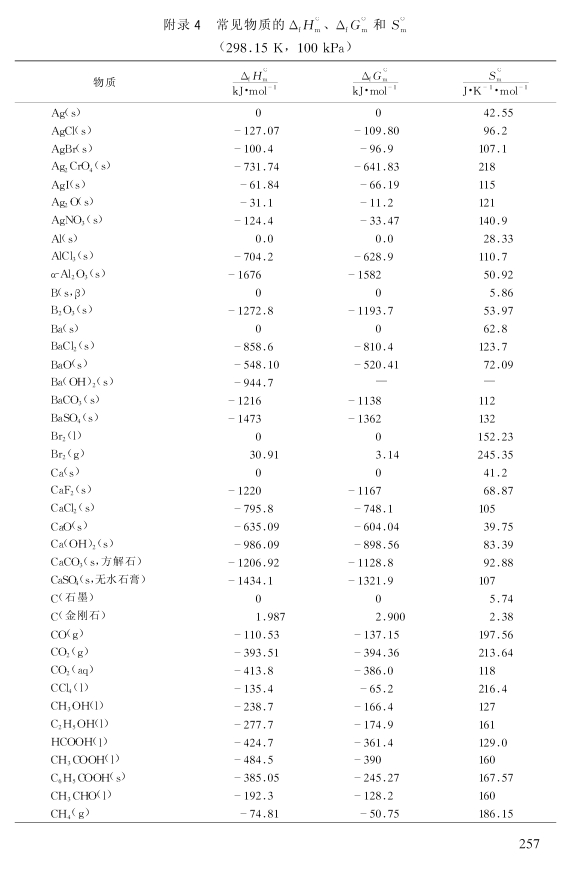table: (14, 60, 556, 823)
